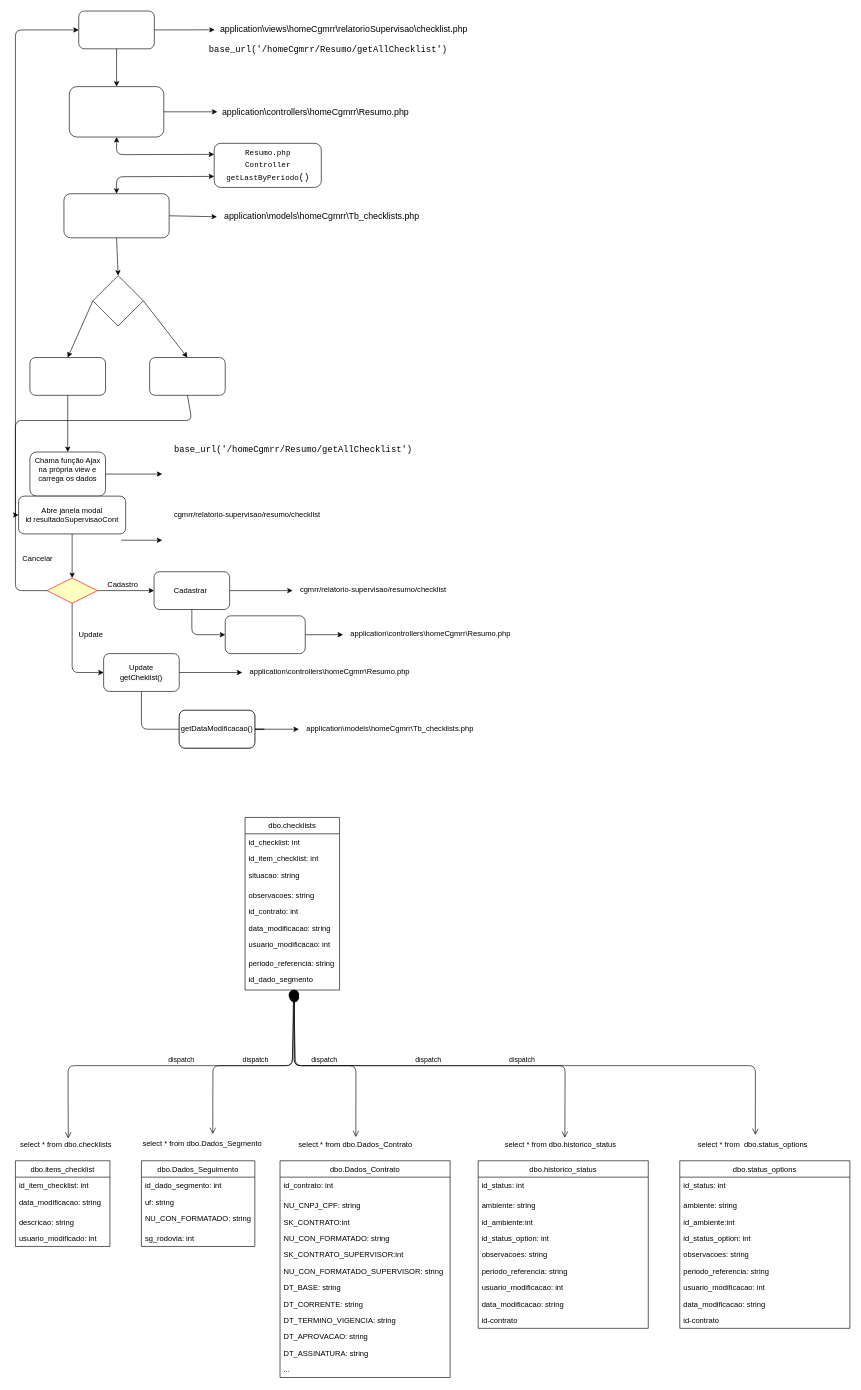
Image size: 861x1390. Some labels were removed from this diagram. The centre of each missing label's shape, as x and y in pixels:
"AJAX Botão Editar" belongs at (x=67, y=376).
"Botão Lançar Checkist" belongs at (x=187, y=376).
"Cadastrar checklist()" belongs at (x=265, y=634).
"Condition" belongs at (x=71, y=590).
"Resumo.php Controller getAllChecklist()" belongs at (x=116, y=111).
"tb_chcklist.php Model getLastByPeriodo()" belongs at (x=116, y=215).
"View - CheckList" belongs at (x=116, y=29).
